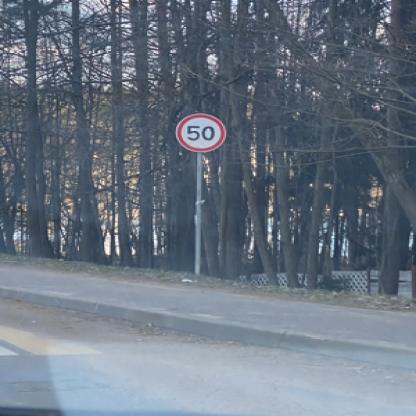Speed Limit 50: (177, 112, 225, 152)
